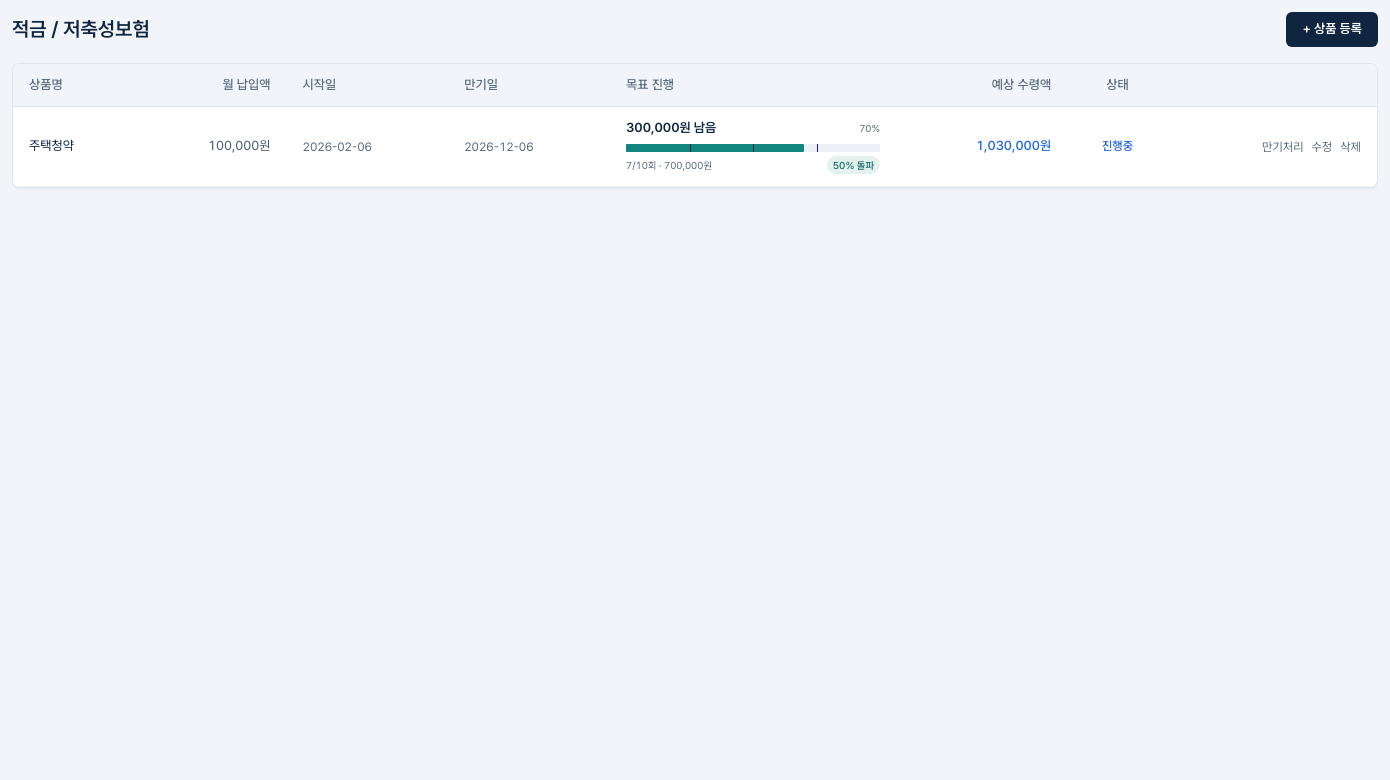
Test: 수정 폼 › 선택한 상품 값을 채워서 연다
Click the button "수정" at (1322, 146), box [1312,138,1332,154]
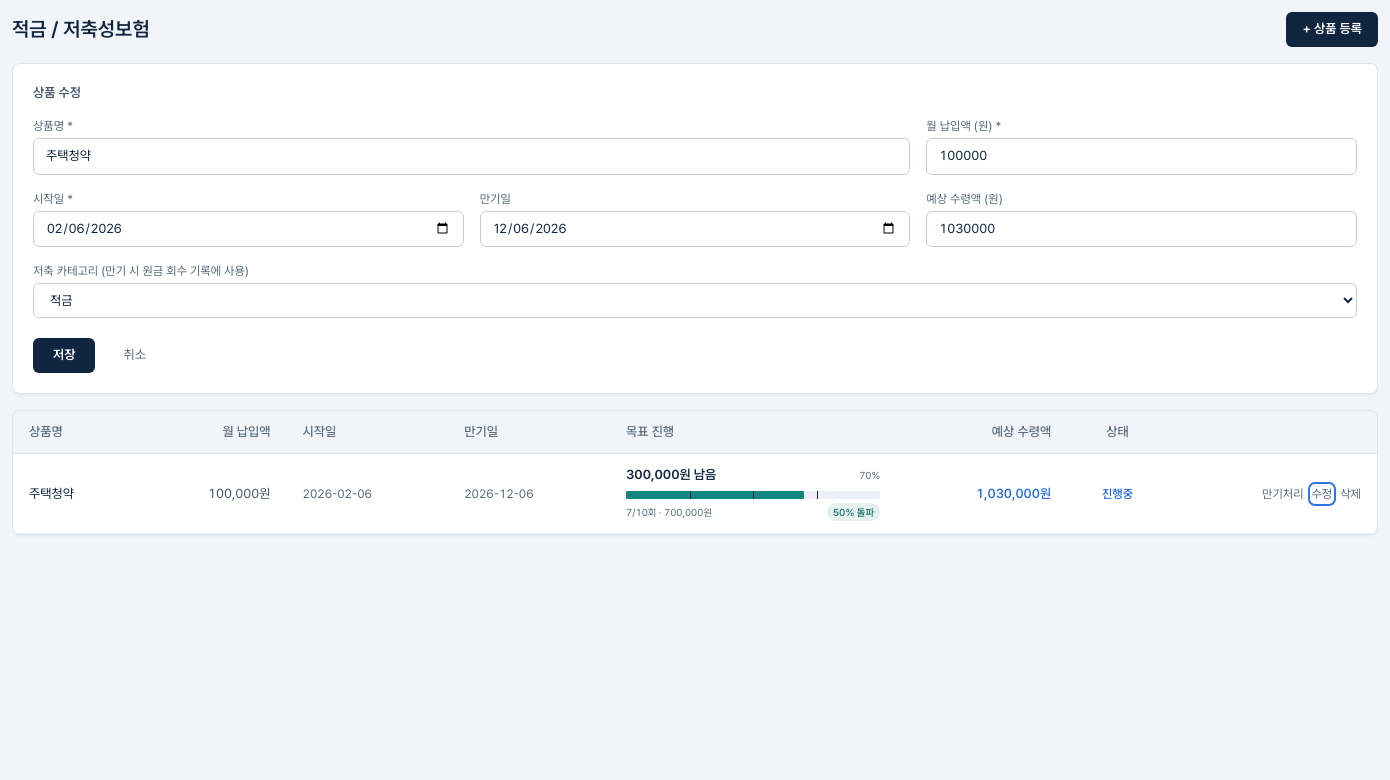
Expected: the heading "상품 수정" is shown, [33,85,81,100]
Expected: the field labelled "상품명 *" holds "주택청약", [33,138,910,175]
Expected: the number field labelled "월 납입액 (원) *" holds "100000", [926,138,1357,175]
